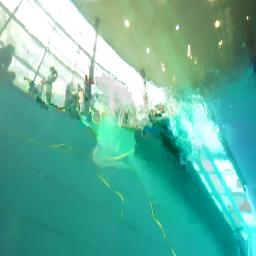Full: (134, 117, 189, 186)
